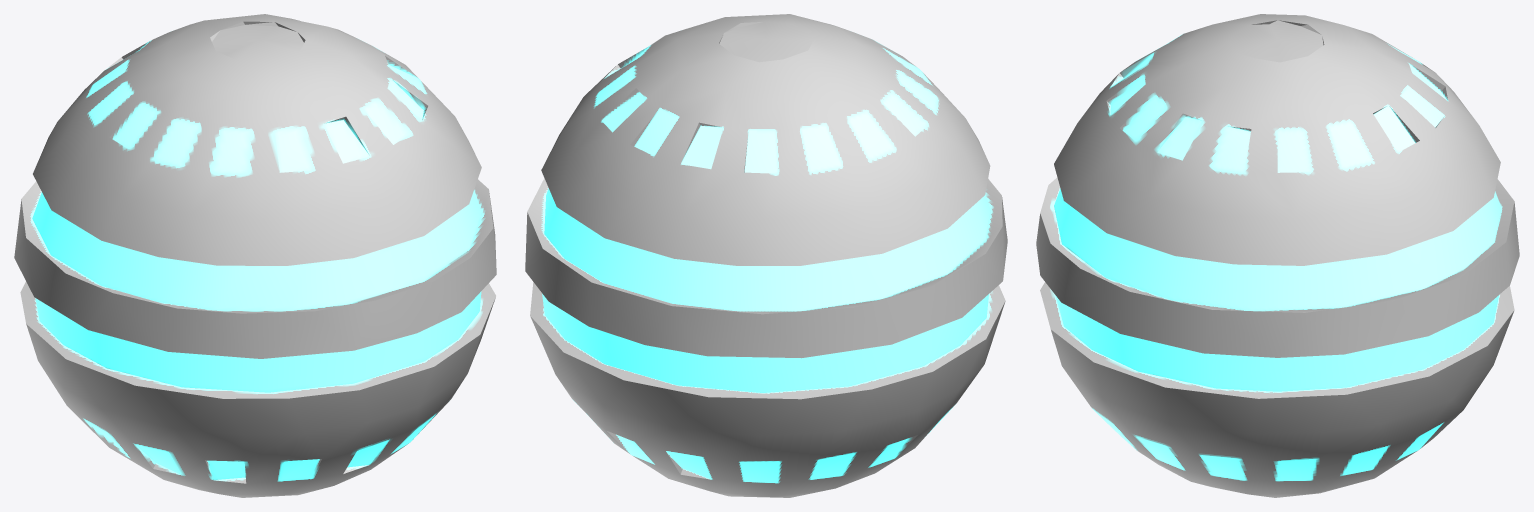
Rendered from Reg Ball (2).fbx.
3 renders of one model, left to right at view 1: azimuth 30°, elevation 25°; view 2: azimuth 150°, elevation 25°; view 3: azimuth 270°, elevation 25°, orthographic.
Parts seen in each view (by area): view 1: Sphere.001; view 2: Sphere.001; view 3: Sphere.001.
Boxes of the visible parts, x1=… form: Sphere.001: x1=14, y1=14, x2=496, y2=497; Sphere.001: x1=525, y1=14, x2=1007, y2=497; Sphere.001: x1=1036, y1=14, x2=1519, y2=497.
Bounding box in the file's own units: 12.17 × 11.97 × 12.17.
